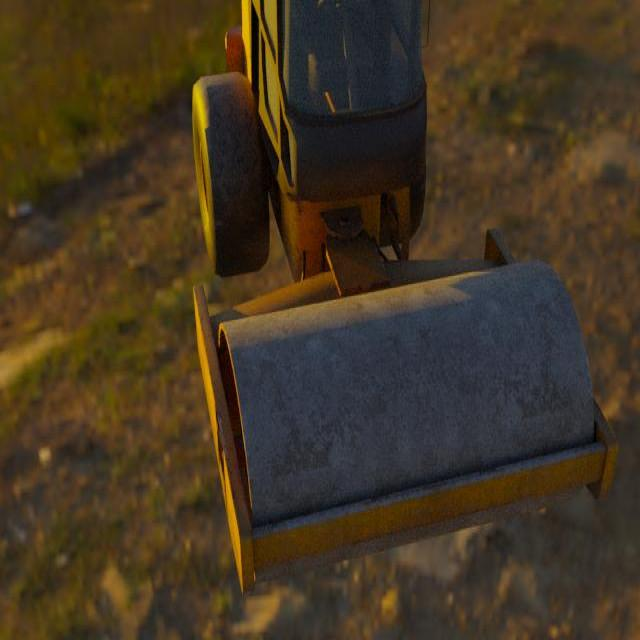Roller: (192, 0, 618, 595)
